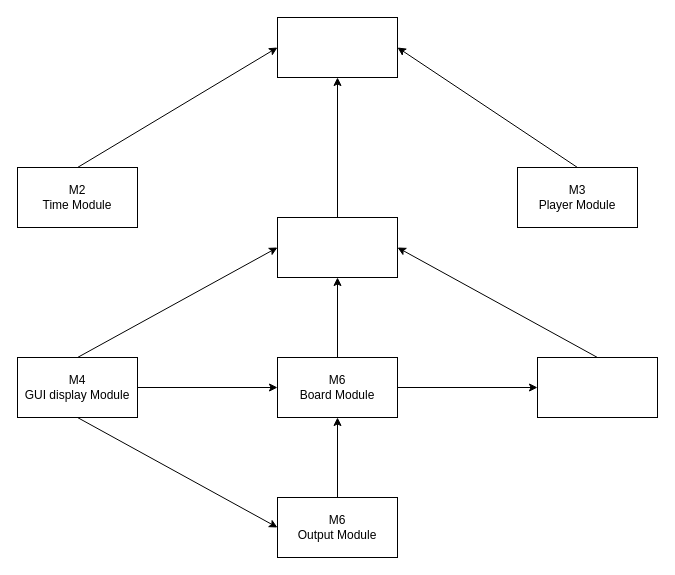
Image size: 675x575. Some labels were removed from this diagram. The centre of each missing label's shape, as x and y in pixels:
M1 Parameter Module: the point at 337,47
M7 Cell Module: the point at 597,387
M8 Pieces Module: the point at 337,247
